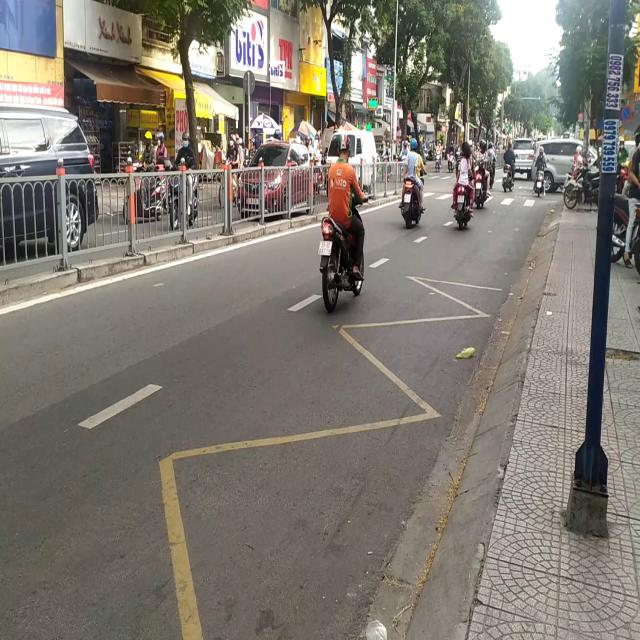bien_trang: (319, 237, 333, 260)
